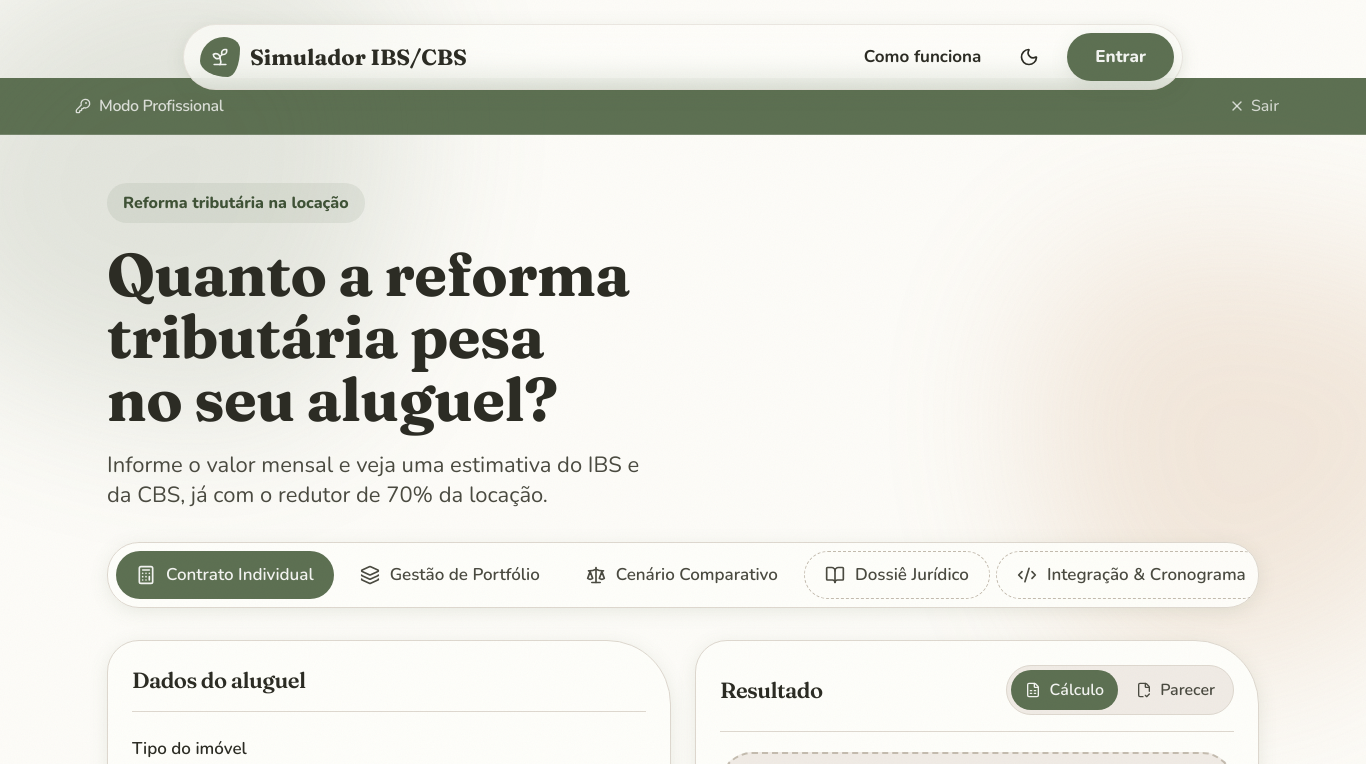
Test: Área reservada (Modo Profissional) › expõe o endpoint do cronograma na aba de integração
Click the tab "Integração & Cronograma" at (1131, 575), box [996,551,1267,599]
(page scrolled)
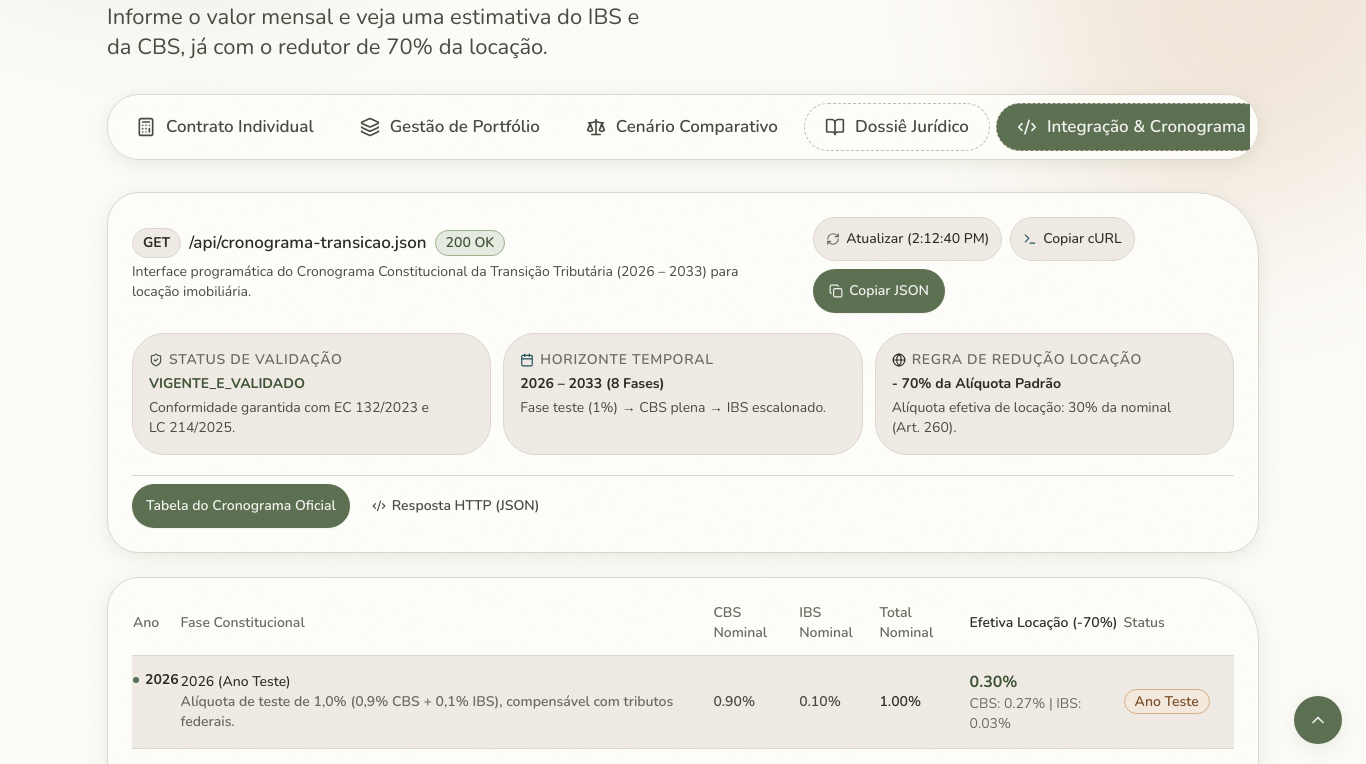
Result: the text "VIGENTE_E_VALIDADO" is shown at [149,374,305,393]
Result: the text "2026 – 2033 (8 Fases)" is shown at [520,374,665,393]
